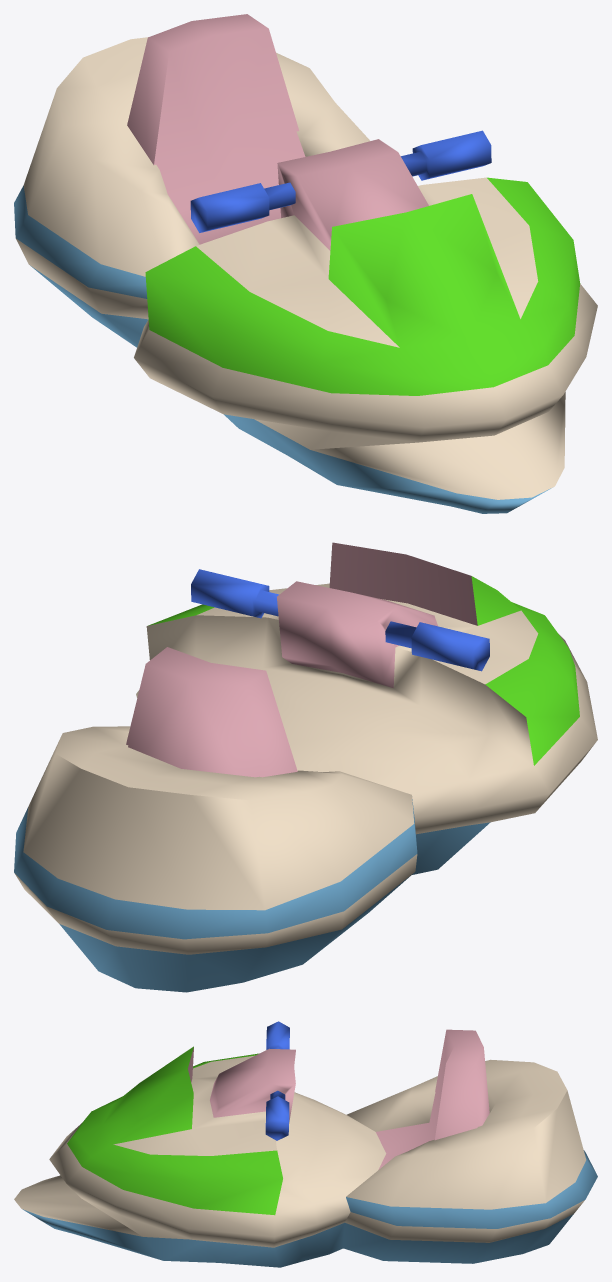
Rendered from Boat.fbx.
3 renders of one model, top to bottom at view 1: azimuth 30°, elevation 25°; view 2: azimuth 150°, elevation 25°; view 3: azimuth 270°, elevation 25°, orthographic. The views are drawn at different scales.
Parts seen in each view (by area): view 1: Boat; view 2: Boat; view 3: Boat.
Part boxes in pixels (left/top/right/bottom): Boat: left=14, top=14, right=597, bottom=513; Boat: left=14, top=542, right=597, bottom=992; Boat: left=14, top=1021, right=597, bottom=1267.
Bounding box in the file's own units: 225 × 143 × 399.
